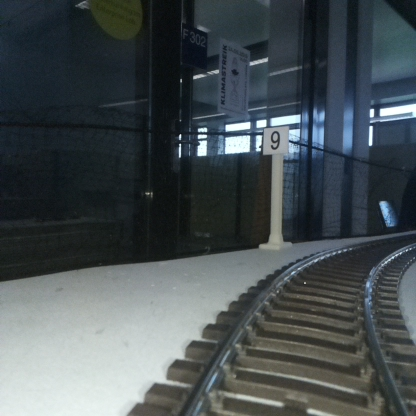white-info-9: (263, 125, 288, 247)
